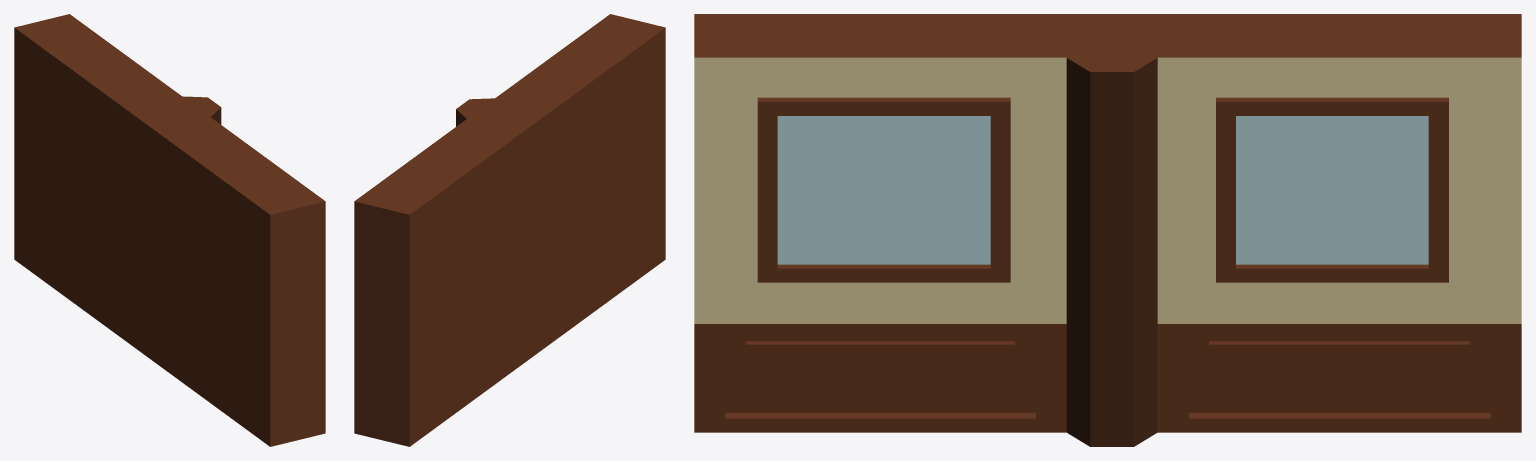
The model's file is wall02.fbx.
3 renders of one model, left to right at view 1: azimuth 30°, elevation 25°; view 2: azimuth 150°, elevation 25°; view 3: azimuth 270°, elevation 25°, orthographic. The views are drawn at different scales.
Parts seen in each view (by area): view 1: Cube.008; view 2: Cube.008; view 3: Cube.008.
Boxes of the visible parts, left/top/right/bottom form: Cube.008: left=14, top=14, right=325, bottom=446; Cube.008: left=354, top=14, right=665, bottom=446; Cube.008: left=694, top=14, right=1521, bottom=446.
Size of the model in its own units: 133 by 400 by 800.
